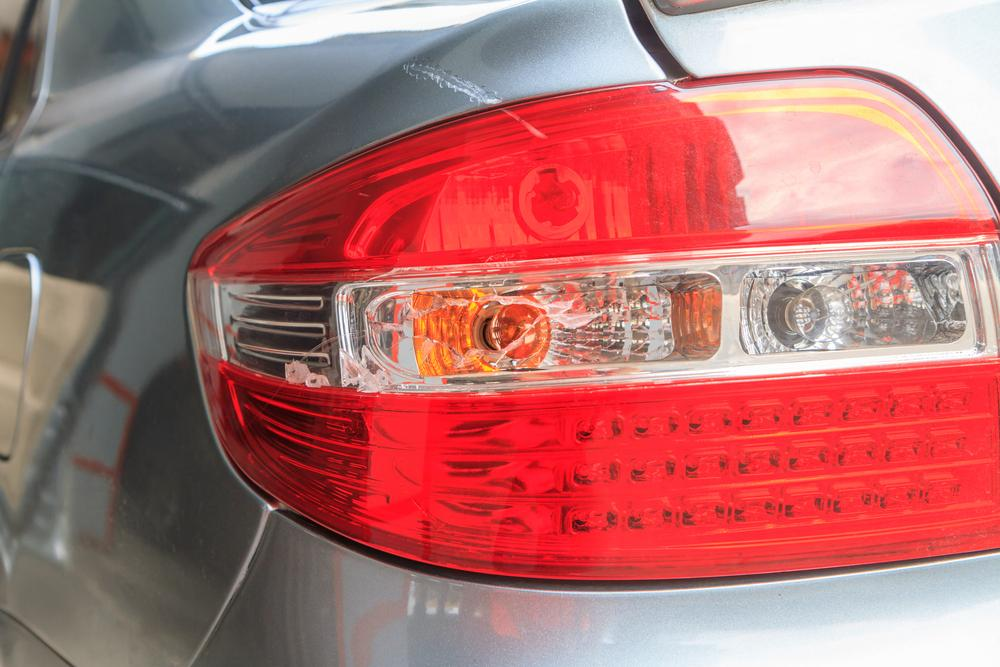lamp broken: (188, 67, 1000, 588)
scratch: (399, 51, 505, 107)
